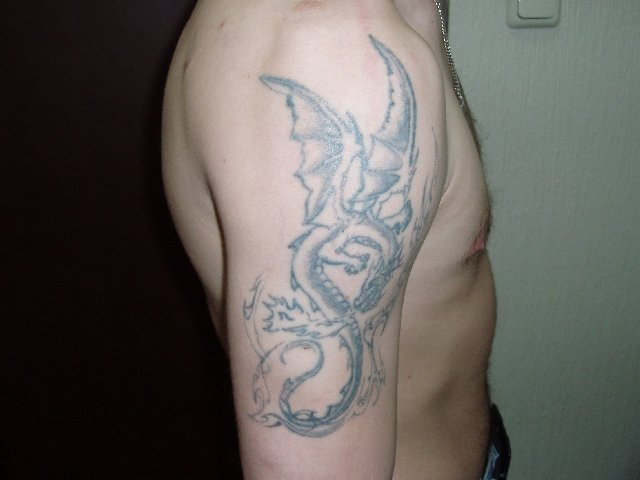tatu6_drakon: (237, 25, 443, 442)
